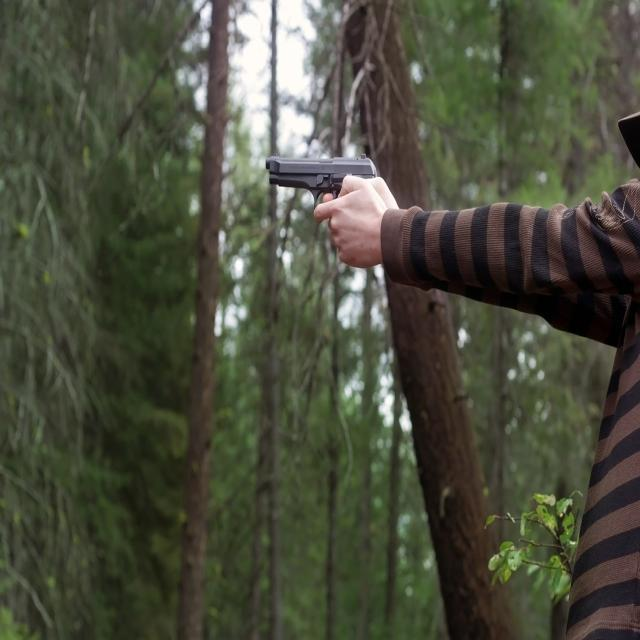Gun: (266, 155, 374, 201)
